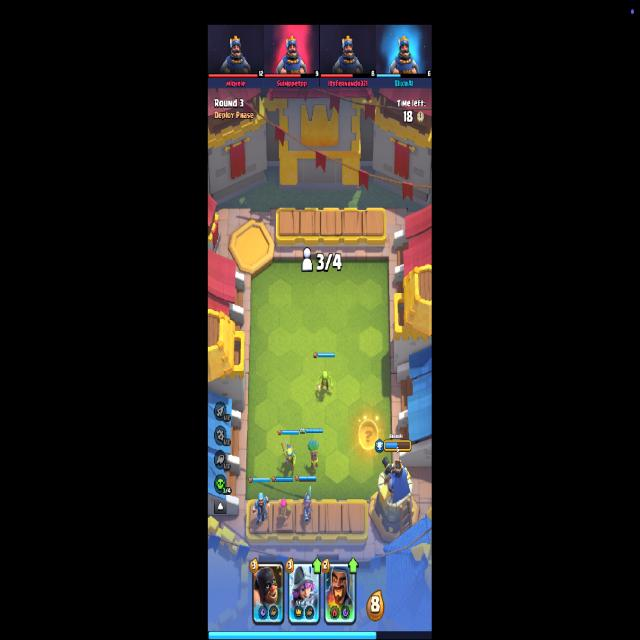archer: (278, 499, 292, 523)
card_executioner: (252, 561, 284, 626)
card_musketeer: (288, 560, 320, 625)
card_wizard: (324, 560, 356, 626)
dart_goblin: (307, 439, 320, 471)
goblin: (317, 371, 333, 394)
musketeer: (302, 486, 312, 524)
spear_goblin: (280, 440, 296, 470)
wizard: (252, 492, 270, 526)
